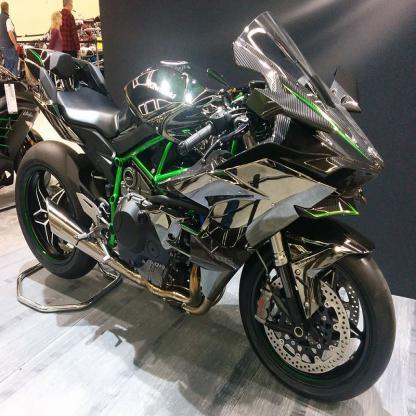Motorcycle: (13, 17, 407, 401)
